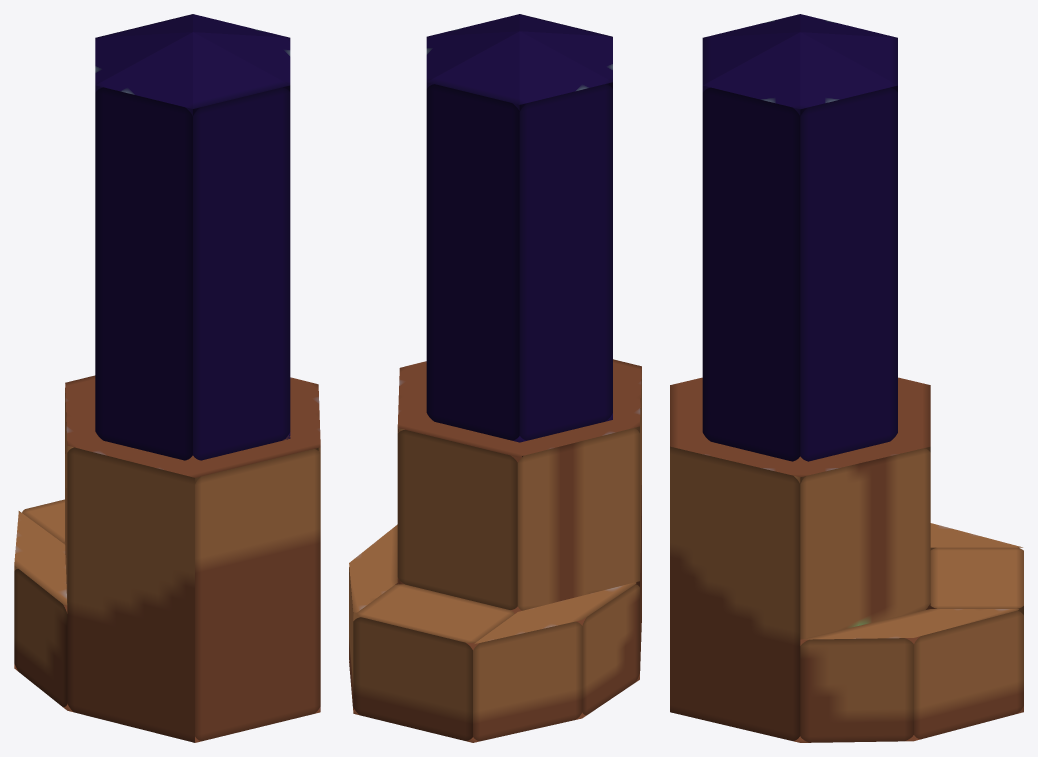
File: PlayerLeg.fbx
The picture shows the model from 3 angles, left to right: view 1: azimuth 30°, elevation 25°; view 2: azimuth 150°, elevation 25°; view 3: azimuth 270°, elevation 25°; orthographic projection. The views are drawn at different scales.
Visible parts, largest first — view 1: Boot, Leg; view 2: Boot, Leg; view 3: Boot, Leg.
Boxes of the visible parts, x1,y1,x2,y2 form: Boot: (14, 375, 320, 742); Leg: (95, 14, 290, 460); Boot: (349, 359, 641, 742); Leg: (426, 14, 612, 442); Boot: (670, 377, 1023, 742); Leg: (702, 14, 897, 461).
Bounding box in the file's own units: 55.8 × 138 × 67.89.
Materials: 1 (1 with a texture image).
